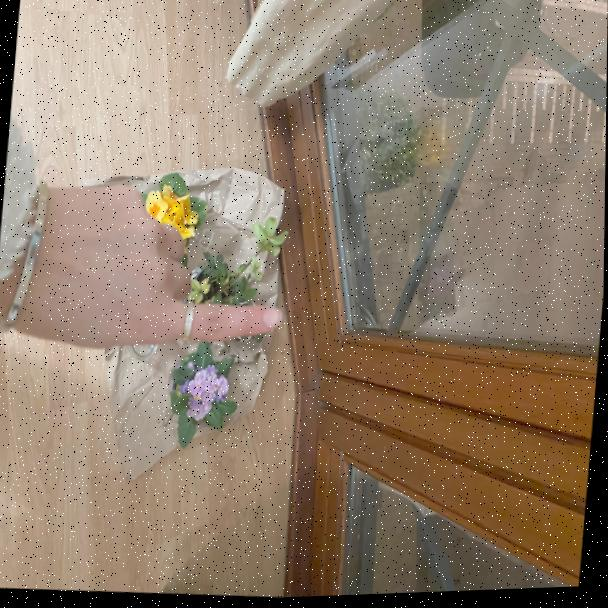one: (2, 158, 295, 371)
